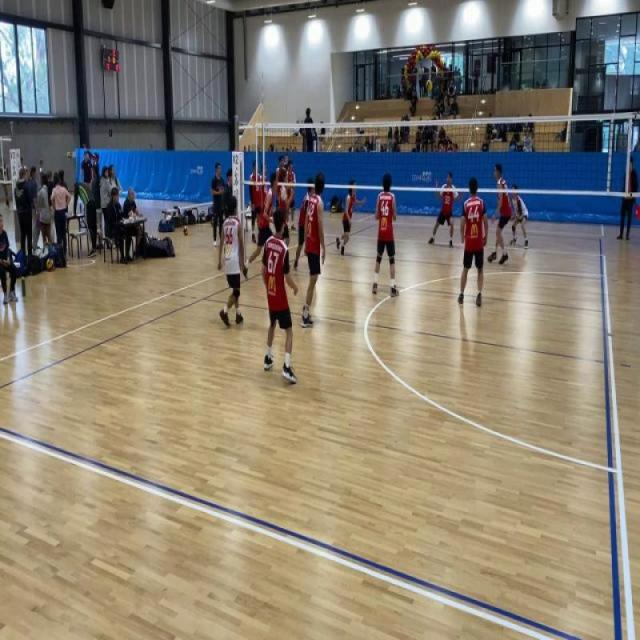volleyball: (46, 258, 54, 272), (426, 78, 433, 92), (183, 226, 189, 237), (66, 151, 72, 160), (330, 206, 336, 214), (210, 216, 214, 228), (149, 234, 153, 242), (156, 237, 161, 242)
